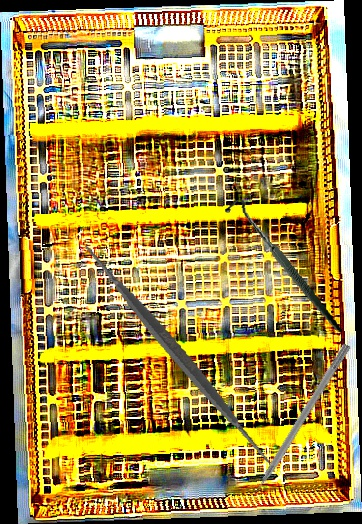Hook Surgical: (223, 185, 342, 349)
Pusher: (242, 341, 352, 508)
Spatula Surgical: (50, 228, 305, 482)
